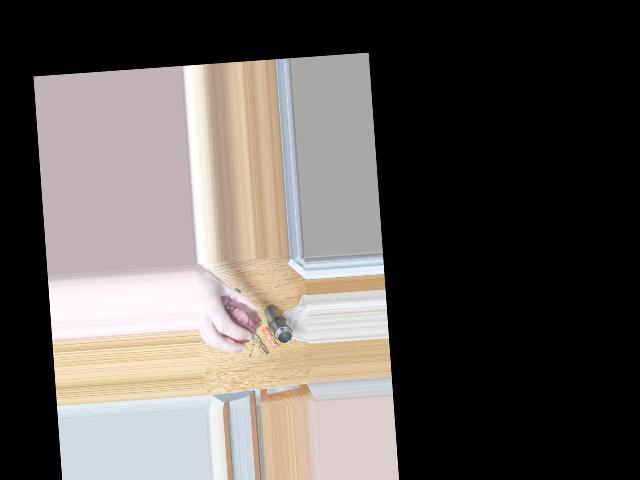onion: (218, 290, 259, 344)
